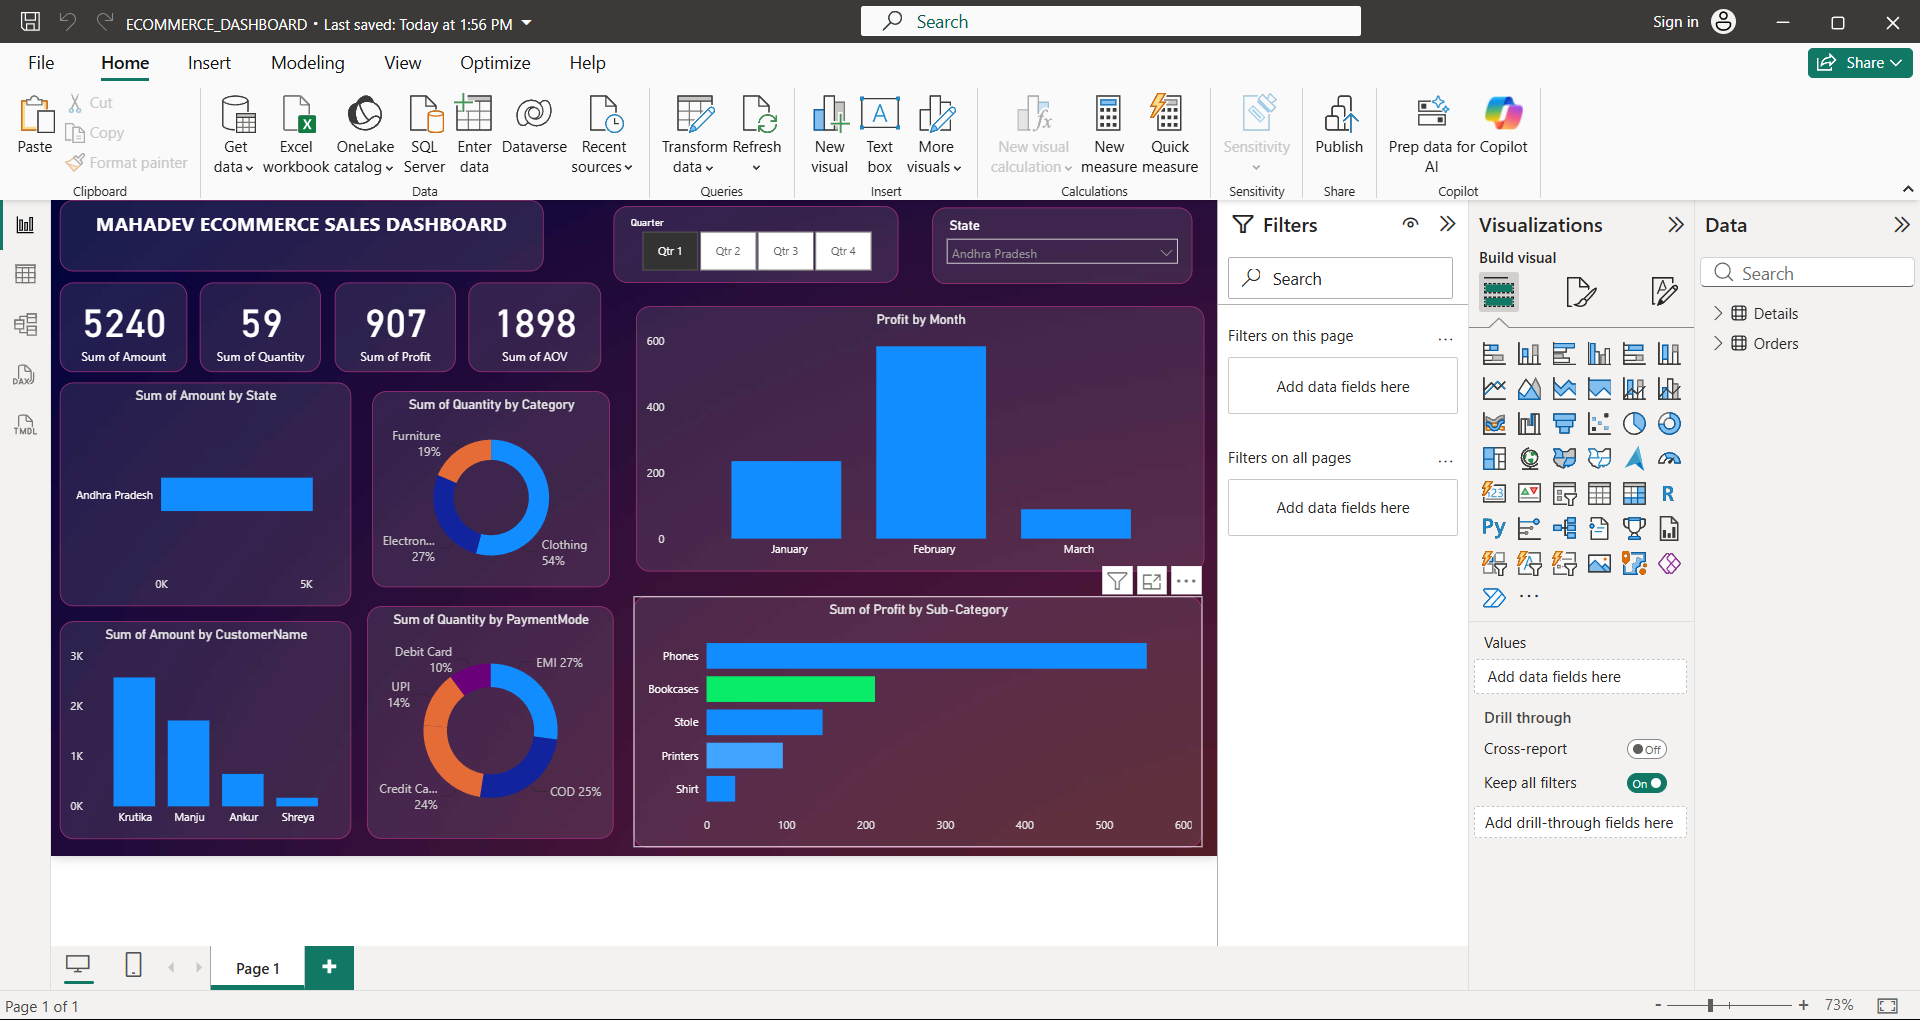

This screenshot's page, from the dashboard's own definition file:
{"tool":"powerbi","page":{"name":"Page 1","canvas":[1280,720],"ordinal":0},"visuals":[{"type":"textbox","box":[9.6,0,531,78.2],"z":0},{"type":"columnChart","title":"Profit by Month","fields":{"Category":["Orders.Order Date.Variation.Date Hierarchy.Month"],"Y":["Sum(Details.Profit)"]},"box":[642.2,116.6,624.4,290.9],"z":1},{"type":"barChart","fields":{"Category":["Details.Sub-Category"],"Y":["Sum(Details.Profit)"]},"box":[639.5,435,624.4,275.8],"z":2},{"type":"donutChart","fields":{"Category":["Details.Category"],"Y":["Sum(Details.Quantity)"]},"box":[352.7,209.9,260.7,215.4],"z":3},{"type":"donutChart","fields":{"Y":["Sum(Details.Quantity)"],"Category":["Details.PaymentMode"]},"box":[347.2,446,270.3,255.2],"z":4},{"type":"card","fields":{"Values":["Sum(Details.Amount)"]},"box":[9.6,90.6,140,98.8],"z":5},{"type":"card","fields":{"Values":["Sum(Details.Quantity)"]},"box":[163.3,90.6,133.1,98.8],"z":6},{"type":"card","fields":{"Values":["Sum(Details.Profit)"]},"box":[311.5,90.6,133.1,98.8],"z":7},{"type":"card","fields":{"Values":["Sum(Details.AOV)"]},"box":[458.3,90.6,145.5,98.8],"z":8},{"type":"barChart","fields":{"Category":["Orders.State"],"Y":["Sum(Details.Amount)"]},"box":[9.6,200.3,319.7,245.6],"z":9},{"type":"columnChart","fields":{"Category":["Orders.CustomerName"],"Y":["Sum(Details.Amount)"]},"box":[10,462,320,239],"z":10},{"type":"slicer","fields":{"Values":["Orders.Order Date.Variation.Date Hierarchy.Quarter"]},"box":[617.5,6.9,312.9,83.7],"z":11},{"type":"slicer","fields":{"Values":["Orders.State"]},"box":[967.4,8.2,285.4,83.7],"z":12}]}

Visuals, with their boxes on the page's 1280x720 design canvas (x1, y1, x2, y2). These are canvas units, not pixel positions in the 1920x1020 screenshot, which may show the page scaled, cropped or inside an application window:
textbox: rect(10, 0, 541, 78)
"Profit by Month" columnChart: rect(642, 117, 1267, 408)
barChart - Details.Sub-Category x Sum(Details.Profit): rect(640, 435, 1264, 711)
donutChart - Details.Category x Sum(Details.Quantity): rect(353, 210, 613, 425)
donutChart - Sum(Details.Quantity) x Details.PaymentMode: rect(347, 446, 618, 701)
card - Sum(Details.Amount): rect(10, 91, 150, 189)
card - Sum(Details.Quantity): rect(163, 91, 296, 189)
card - Sum(Details.Profit): rect(312, 91, 445, 189)
card - Sum(Details.AOV): rect(458, 91, 604, 189)
barChart - Orders.State x Sum(Details.Amount): rect(10, 200, 329, 446)
columnChart - Orders.CustomerName x Sum(Details.Amount): rect(10, 462, 330, 701)
slicer - Orders.Order Date.Variation.Date Hierarchy.Quarter: rect(618, 7, 930, 91)
slicer - Orders.State: rect(967, 8, 1253, 92)
